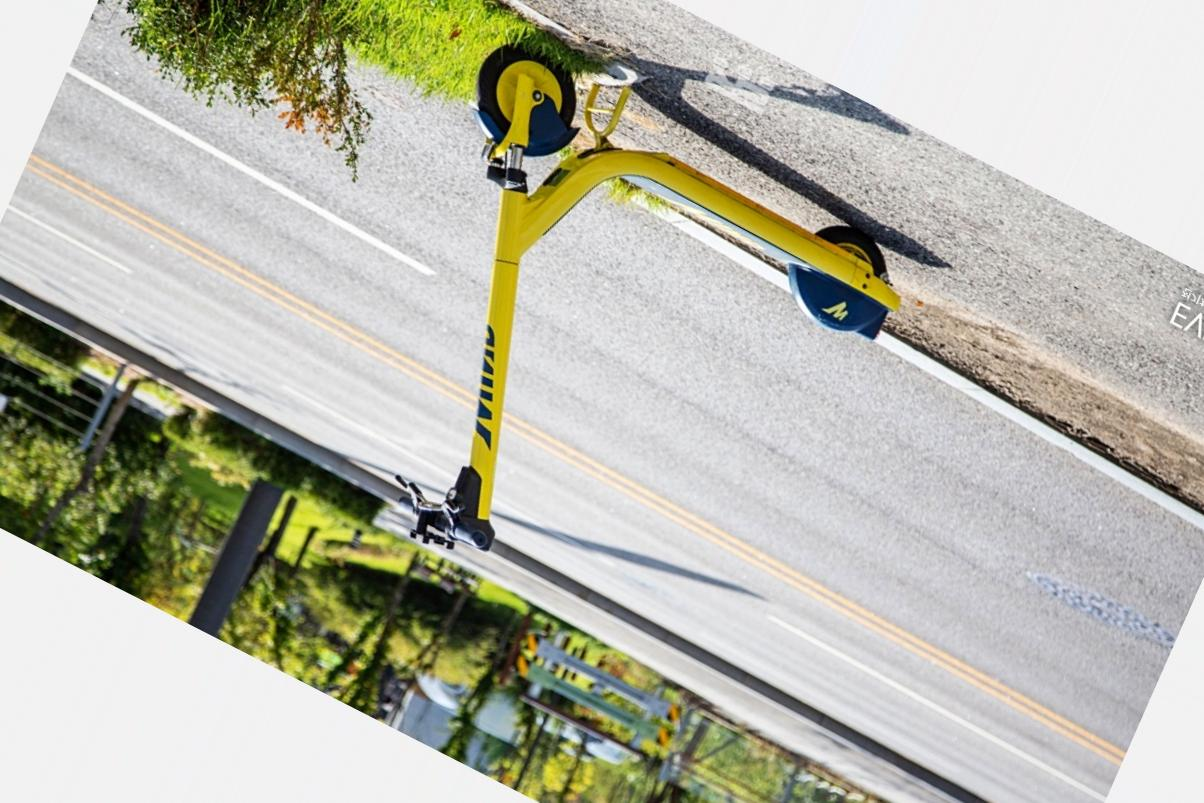scooter: (393, 40, 903, 555)
